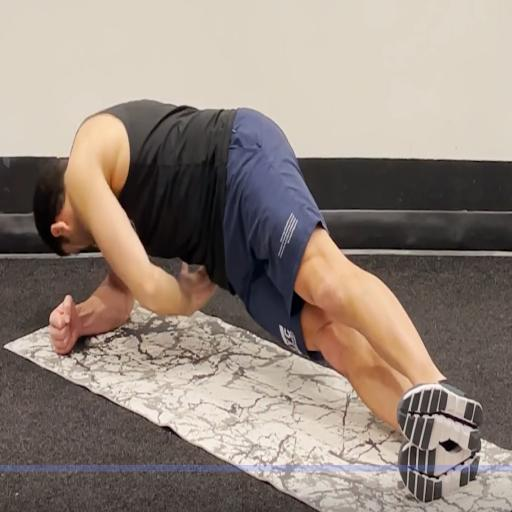Normal_Dips: (0, 54, 511, 487)
